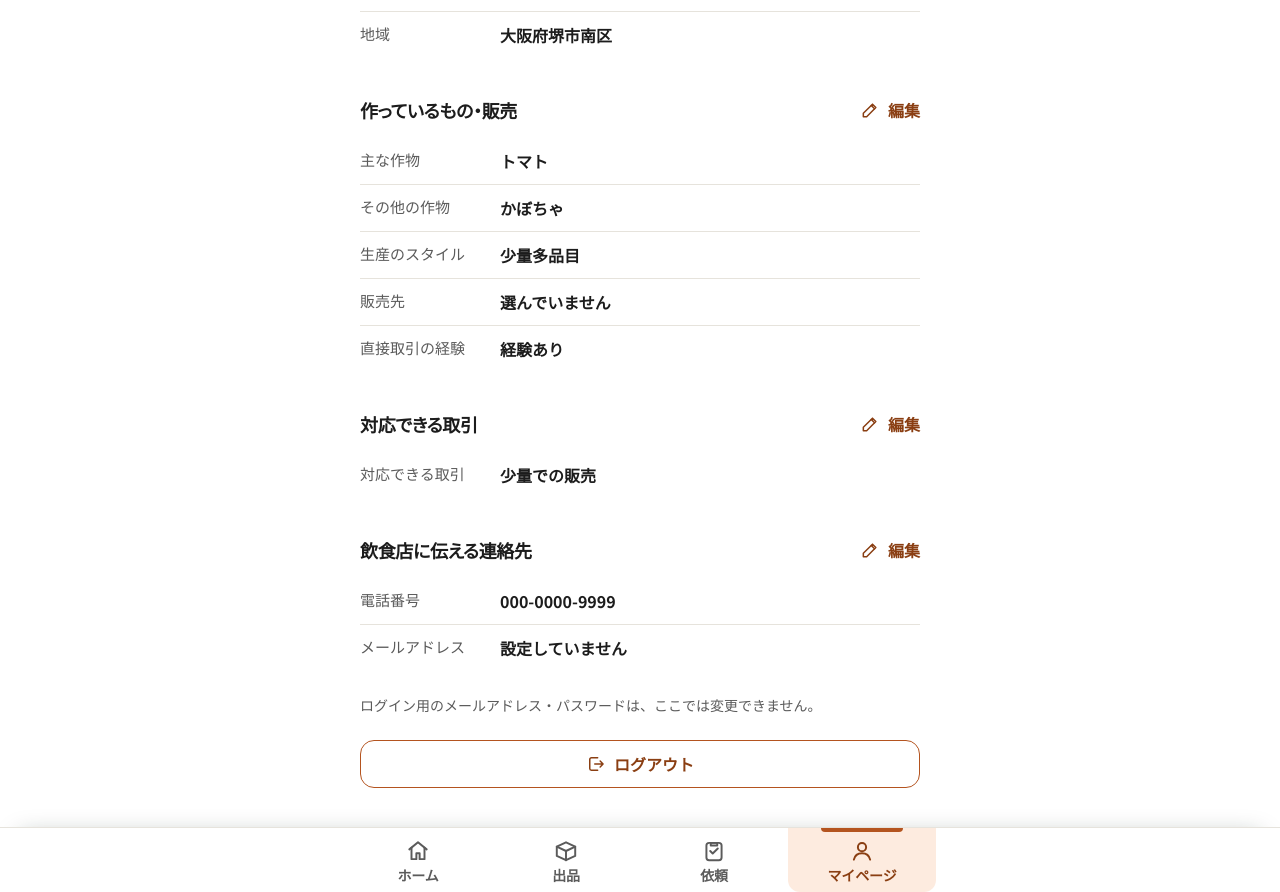
Test case: マイページ › 生産者：連絡先を両方消すと保存せず、項目の近くに理由を出す
(page scrolled)
Click the button named "飲食店に伝える連絡先を編集する" at (890, 550), box [848,526,932,574]
(page scrolled)
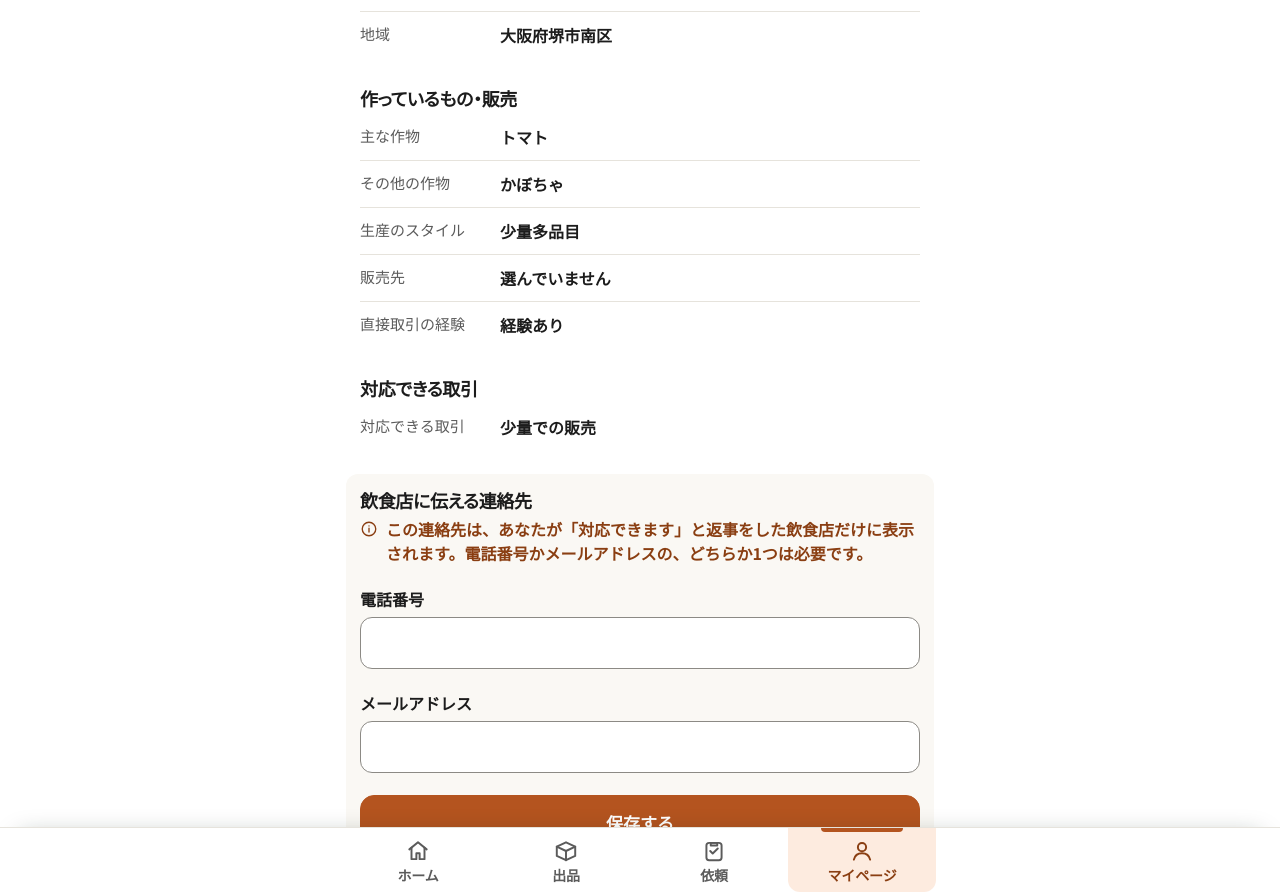
Clear the field named "contactPhone" at (640, 643), box [360,617,920,669]
expect the button "保存する" is shown: met
Click the button "保存する" at (640, 823), box [360,795,920,851]
(page scrolled)
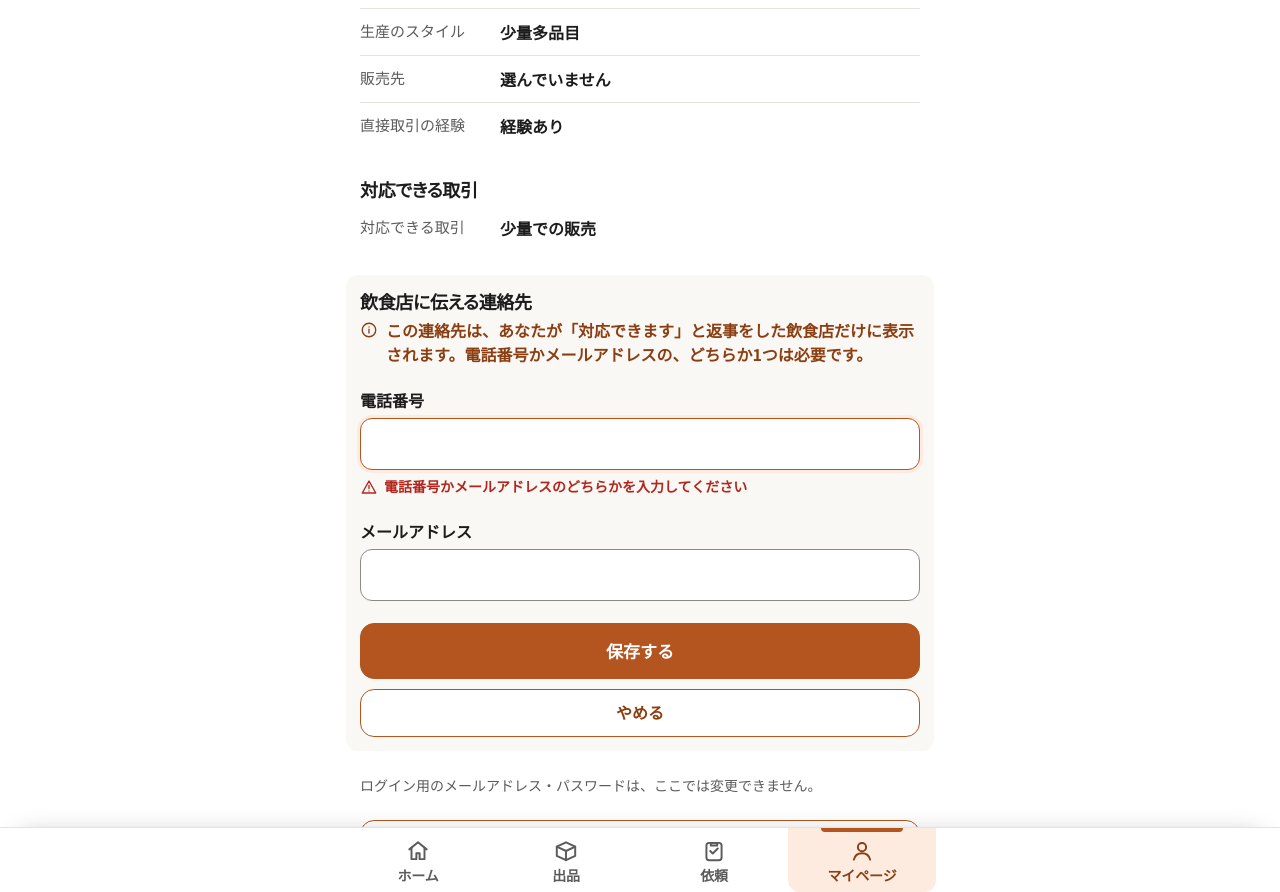
expect the button "やめる" is shown: met
expect the message with class "field-error" reads "電話番号かメールアドレスのどちらかを入力してください": met, box [384,476,747,496]
Click the button "やめる" at (640, 713), box [360,689,920,737]
(page scrolled)
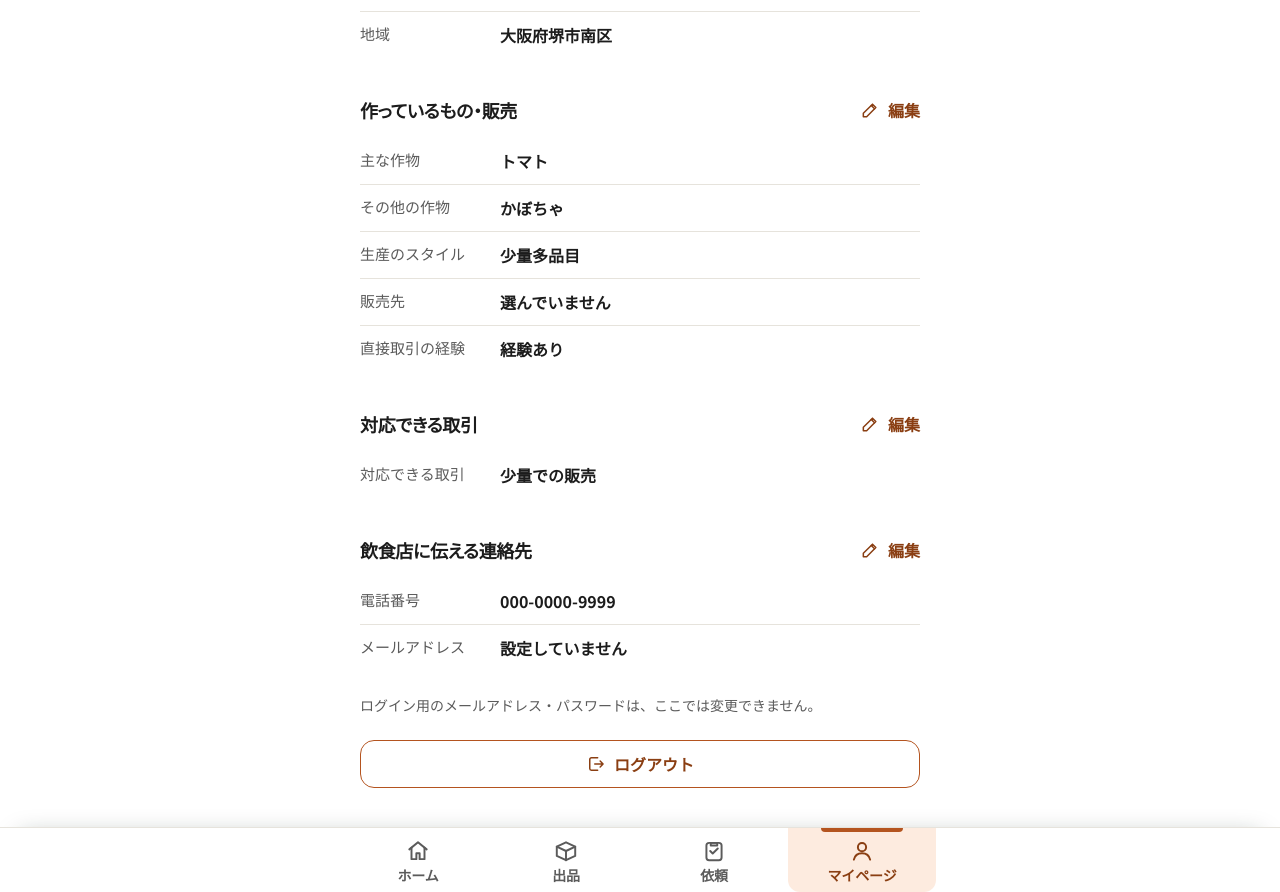
expect the text "000-0000-9999" is shown: met, box [500,589,616,613]
